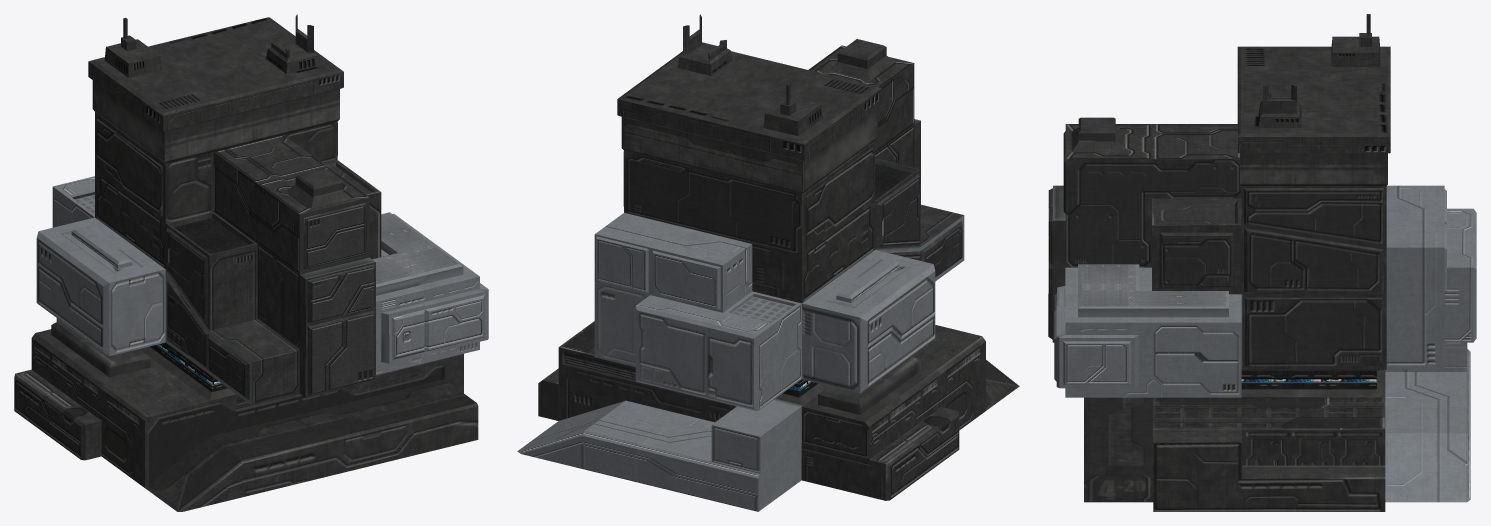
File: tower-03.fbx
The picture shows the model from 3 angles, left to right: view 1: azimuth 30°, elevation 25°; view 2: azimuth 150°, elevation 25°; view 3: azimuth 270°, elevation 25°; orthographic projection. The views are drawn at different scales.
Parts seen in each view (by area): view 1: tower-03; view 2: tower-03; view 3: tower-03.
Boxes of the visible parts, x1=… form: tower-03: x1=14, y1=14, x2=488, y2=511; tower-03: x1=517, y1=14, x2=1019, y2=511; tower-03: x1=1048, y1=14, x2=1476, y2=511.
Size of the model in its own units: 100 by 105 by 107.
